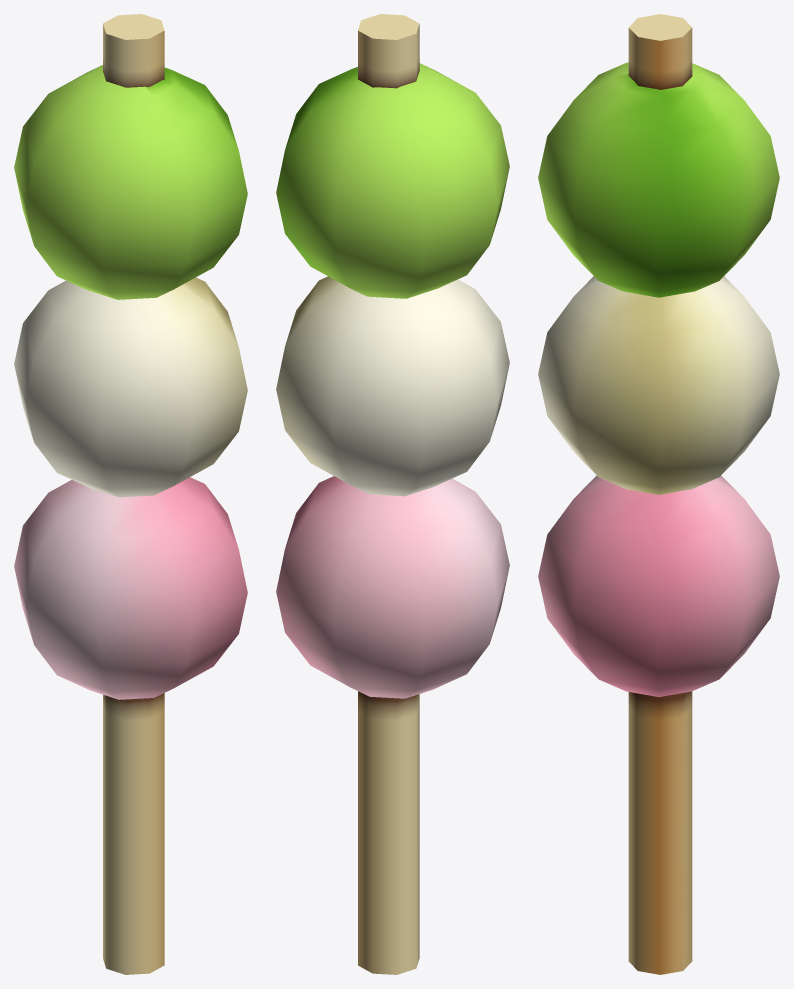
File: dumpling.fbx
3 renders of one model, left to right at view 1: azimuth 30°, elevation 25°; view 2: azimuth 150°, elevation 25°; view 3: azimuth 270°, elevation 25°, orthographic.
Parts seen in each view (by area): view 1: dumpling; view 2: dumpling; view 3: dumpling.
Part boxes in pixels (x1,y1,x2,y2): dumpling: (14,14,247,974); dumpling: (276,14,509,974); dumpling: (538,14,779,974).
Size of the model in its own units: 7.59 by 32.36 by 7.59.
